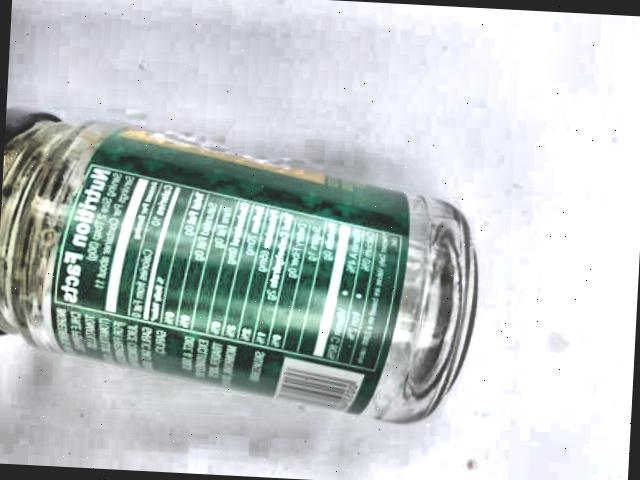Almennt: (0, 95, 501, 443)
